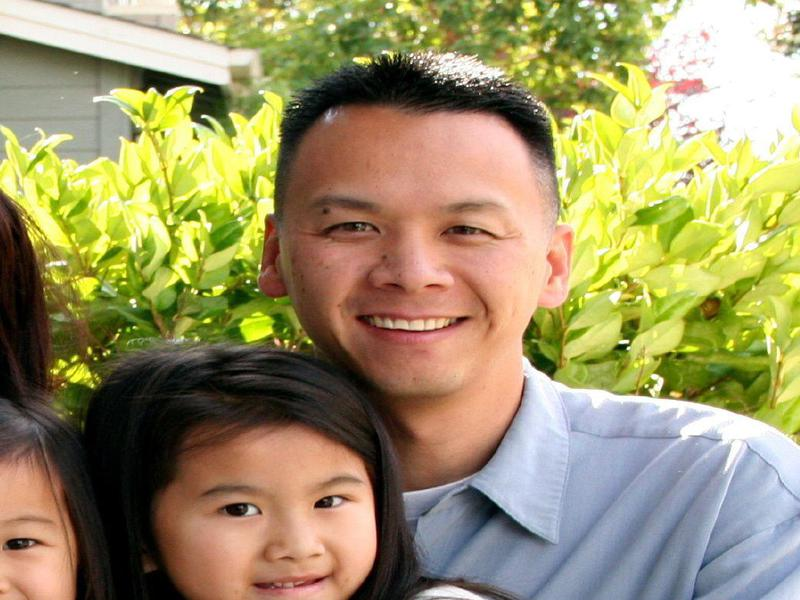person: (256, 56, 800, 597), (87, 331, 409, 600), (1, 395, 112, 600)
